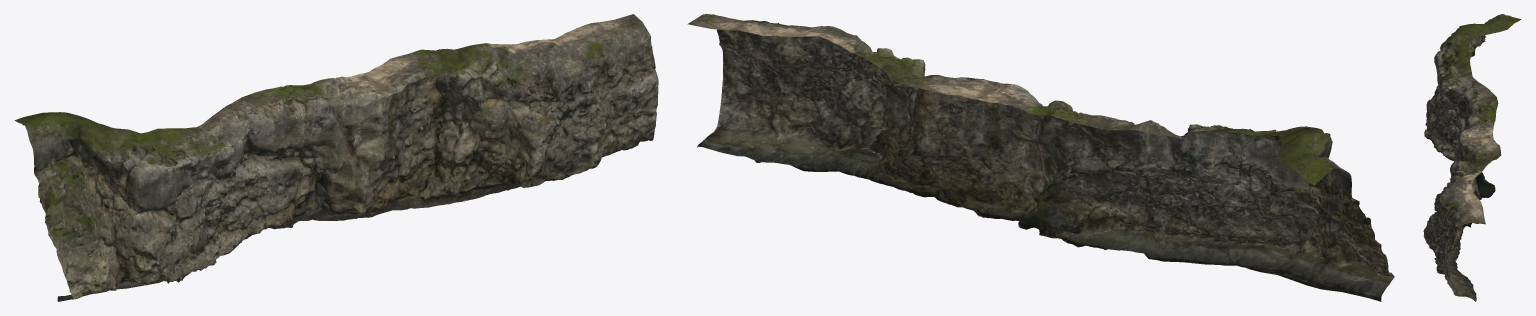
Rendered from coastal-cliff.glb.
3 views of the same model, side by side, from view 1: azimuth 30°, elevation 25°; view 2: azimuth 150°, elevation 25°; view 3: azimuth 270°, elevation 25° (orthographic). The views are drawn at different scales.
Visible parts, largest first — view 1: coastal_cliff_02_LOD0; view 2: coastal_cliff_02_LOD0; view 3: coastal_cliff_02_LOD0.
Part boxes in pixels (x1,y1,x2,y2): coastal_cliff_02_LOD0: (14, 14, 658, 301); coastal_cliff_02_LOD0: (687, 14, 1394, 301); coastal_cliff_02_LOD0: (1423, 14, 1521, 301).
Size of the model in its own units: 40.93 by 10.05 by 8.65.
Materials: 1 (1 with a texture image).
